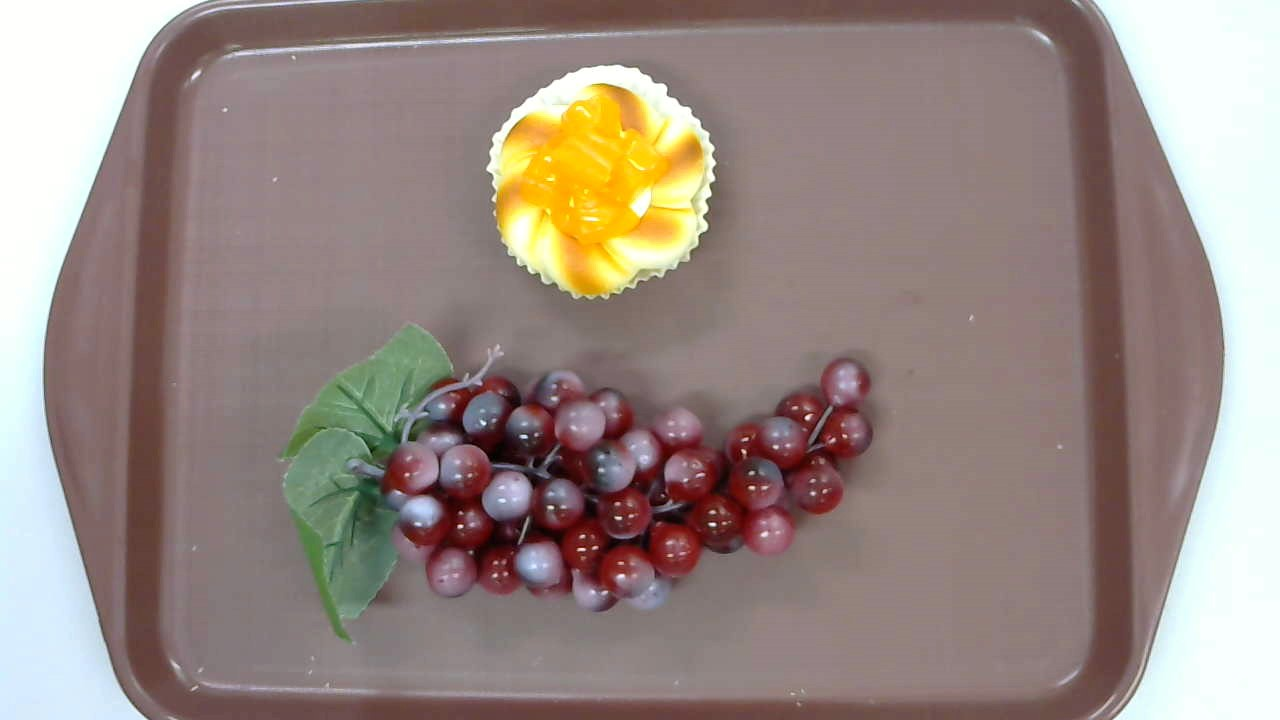grape: (278, 323, 872, 643)
mango tart: (484, 65, 717, 300)
